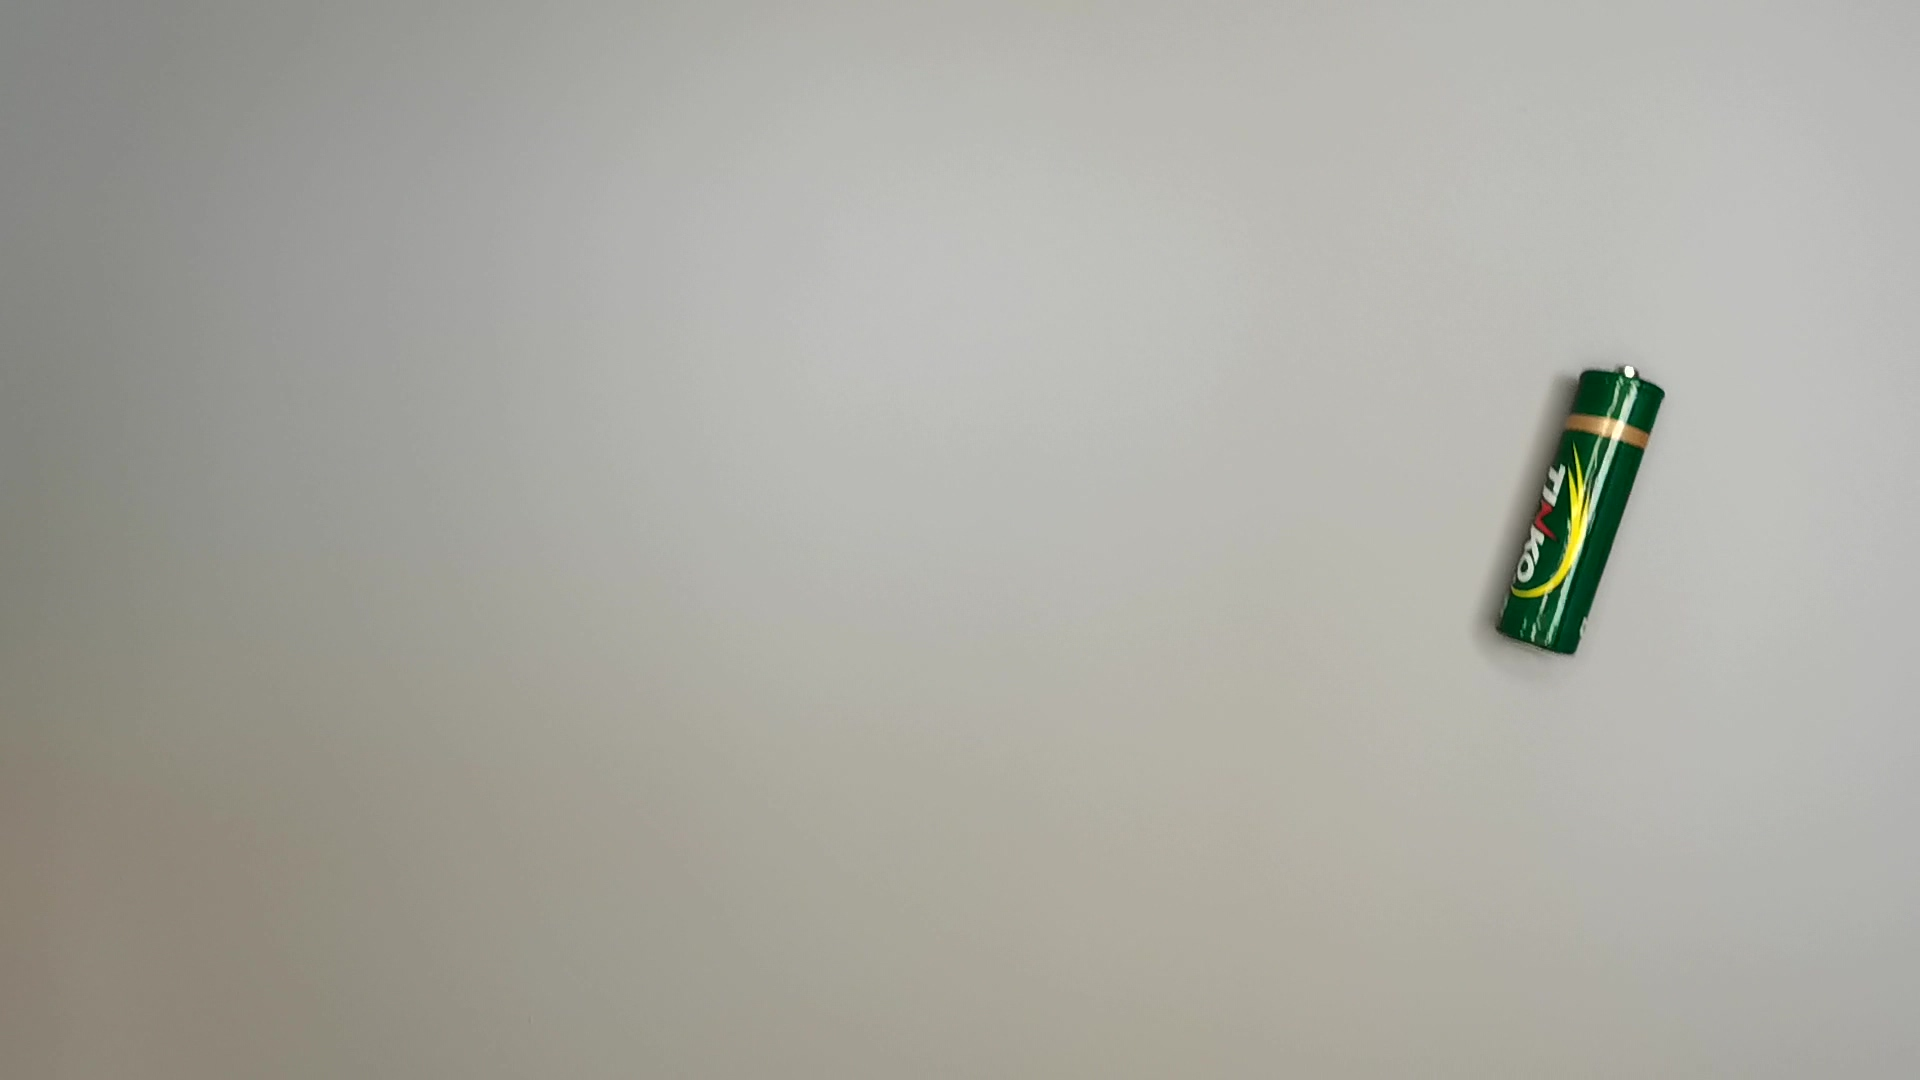battery: (1478, 360, 1675, 667)
